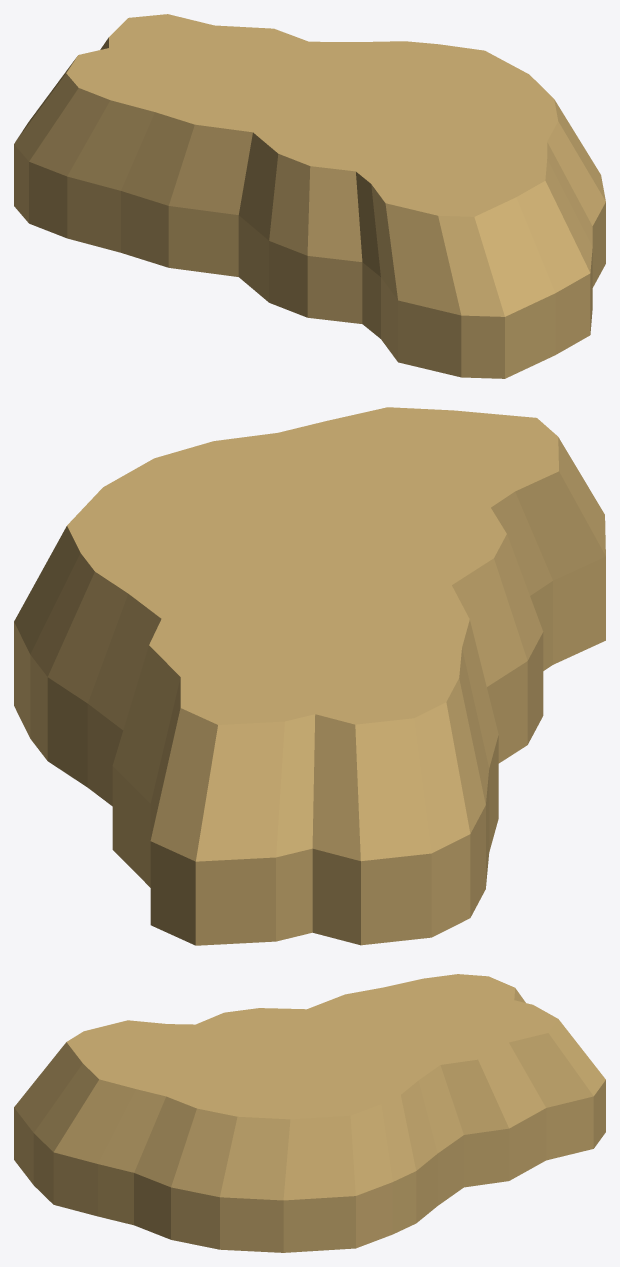
The model's file is RedObstacle7.fbx.
3 renders of one model, top to bottom at view 1: azimuth 30°, elevation 25°; view 2: azimuth 150°, elevation 25°; view 3: azimuth 270°, elevation 25°, orthographic. The views are drawn at different scales.
Visible parts, largest first — view 1: RedObstacle7; view 2: RedObstacle7; view 3: RedObstacle7.
Boxes of the visible parts, x1=… form: RedObstacle7: x1=14, y1=14, x2=605, y2=378; RedObstacle7: x1=14, y1=407, x2=605, y2=945; RedObstacle7: x1=14, y1=974, x2=605, y2=1252.
Bounding box in the file's own units: 5.56 × 1.75 × 7.95.
